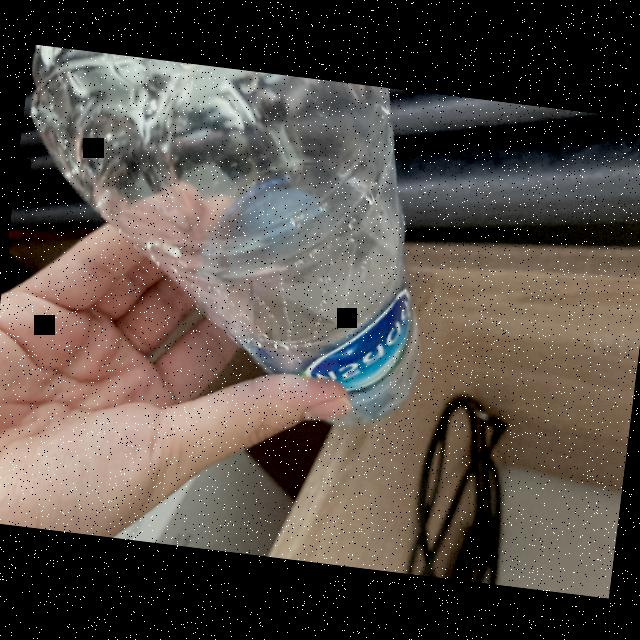plastic_bottle: (0, 43, 462, 445)
